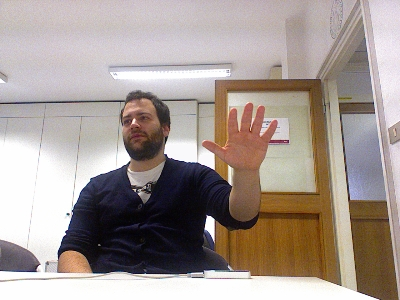布: (200, 101, 278, 171)
